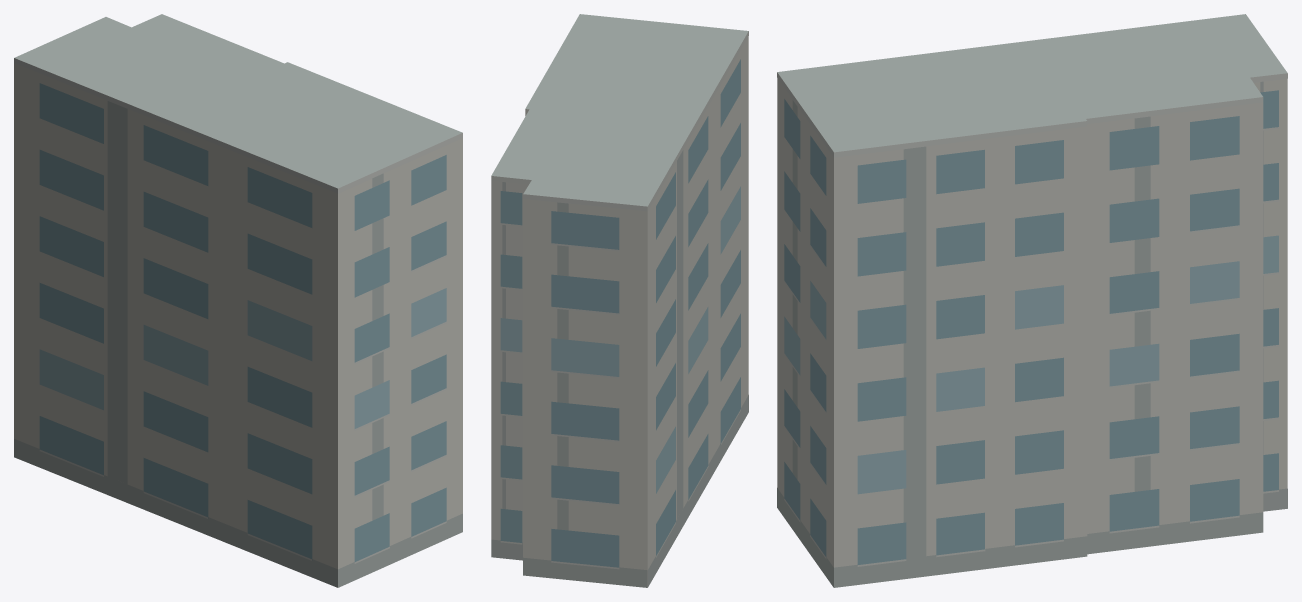
File: survey-upis-32911695.glb
3 renders of one model, left to right at view 1: azimuth 30°, elevation 25°; view 2: azimuth 150°, elevation 25°; view 3: azimuth 270°, elevation 25°, orthographic. The views are drawn at different scales.
Parts seen in each view (by area): view 1: survey-upis-32911695.tmp; view 2: survey-upis-32911695.tmp; view 3: survey-upis-32911695.tmp.
Boxes of the visible parts, bbox=[...] form: survey-upis-32911695.tmp: bbox=[14, 14, 462, 587]; survey-upis-32911695.tmp: bbox=[491, 14, 748, 587]; survey-upis-32911695.tmp: bbox=[777, 14, 1287, 587].
Bounding box in the file's own units: 12.95 × 19 × 20.2.
